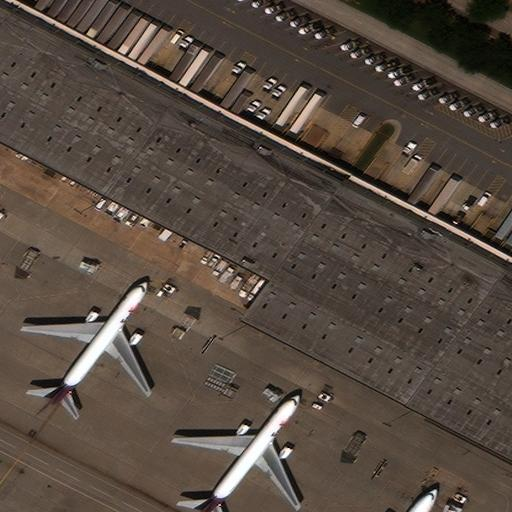Large Civil Transport: (22, 278, 152, 406), (173, 393, 302, 512), (358, 482, 441, 512)
